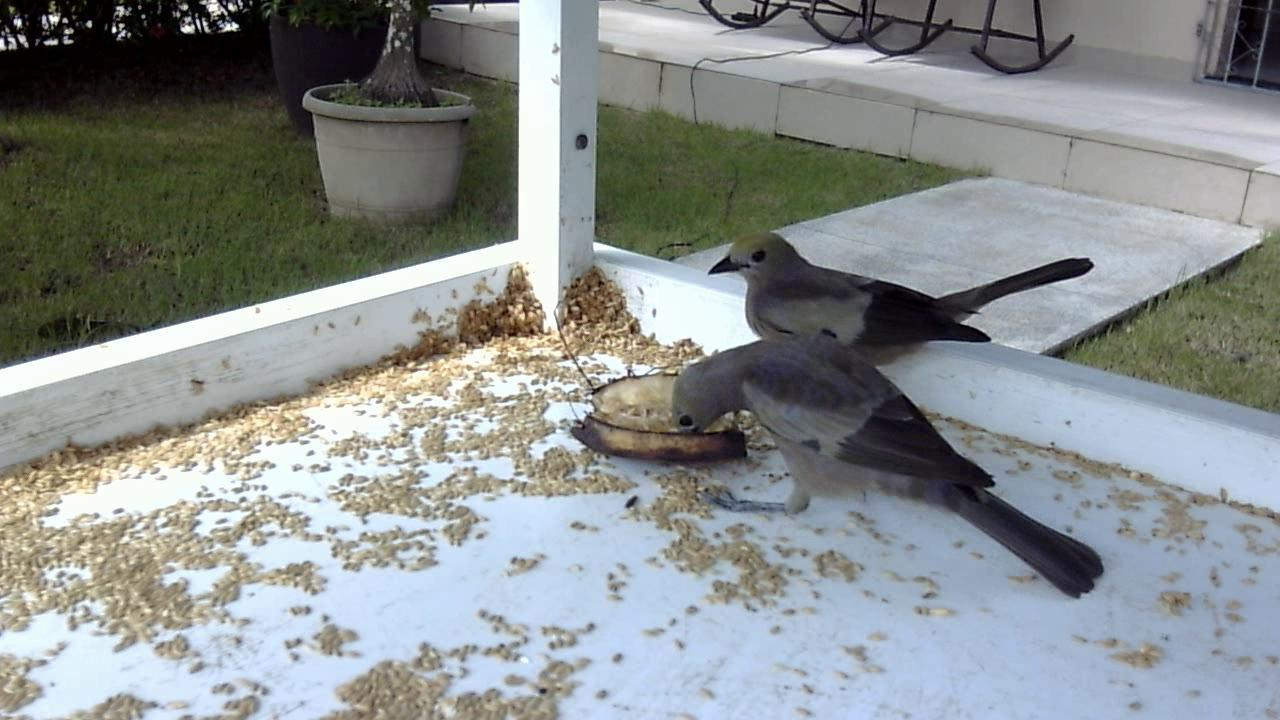sanhaco_do_coqueiro: (673, 307, 1125, 600), (712, 189, 1108, 426)
